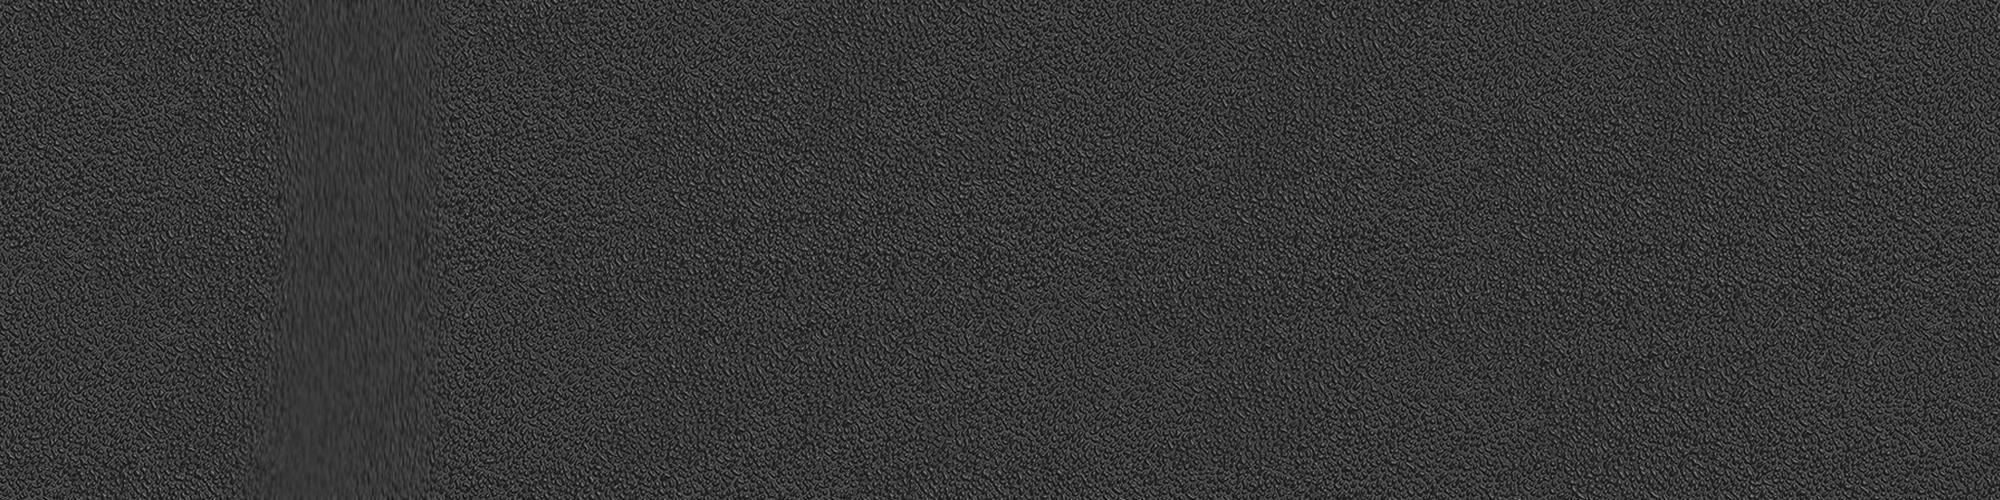Flow_Lines: (224, 11, 468, 492)
